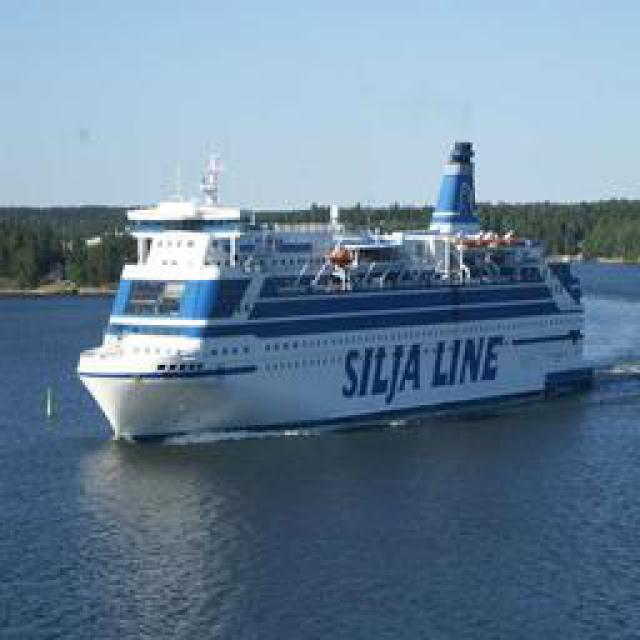Ship: (80, 137, 595, 440)
